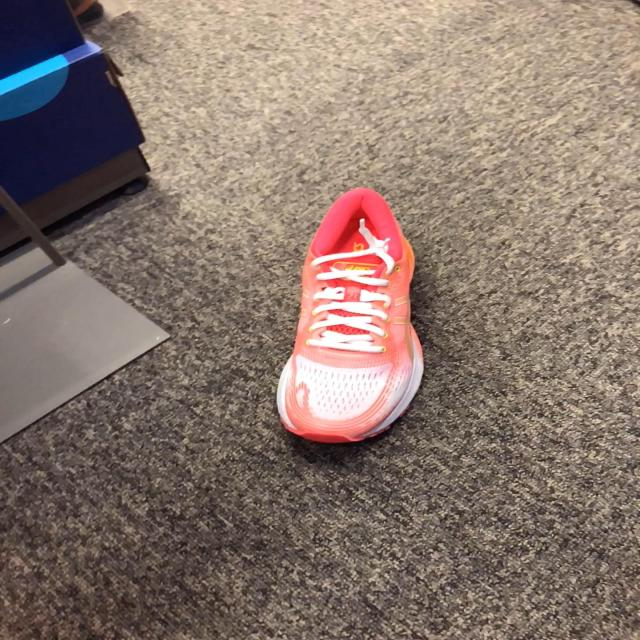shoe: (277, 189, 424, 446)
